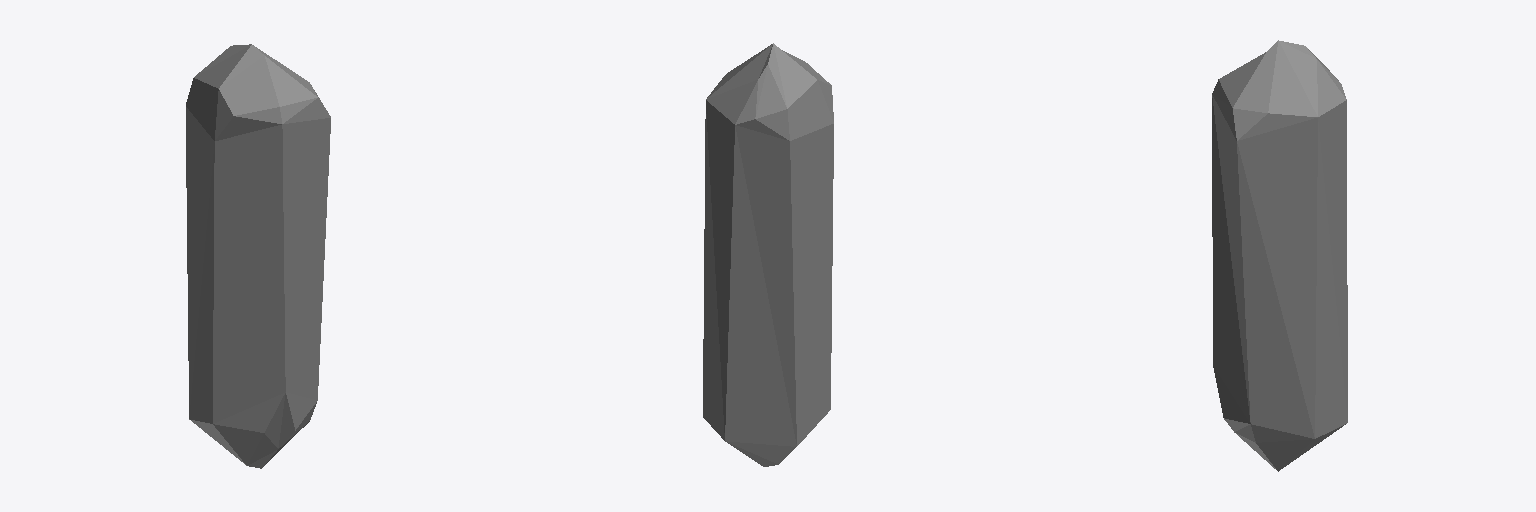
3 renders of one model, left to right at view 1: azimuth 30°, elevation 25°; view 2: azimuth 150°, elevation 25°; view 3: azimuth 270°, elevation 25°, orthographic.
Visible parts, largest first — view 1: crystal_small_001; view 2: crystal_small_001; view 3: crystal_small_001.
Boxes of the visible parts, x1=… form: crystal_small_001: x1=186, y1=44, x2=330, y2=468; crystal_small_001: x1=703, y1=43, x2=833, y2=466; crystal_small_001: x1=1212, y1=40, x2=1347, y2=471.
Size of the model in its own units: 1.2 by 4.55 by 1.31.